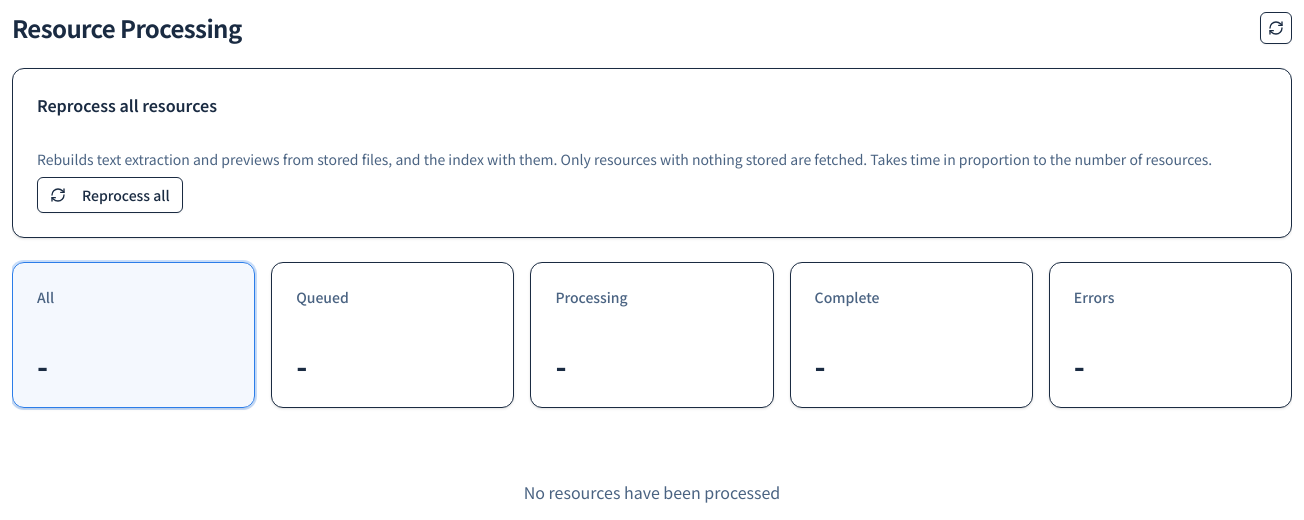
it: AdminJobsPage › reprocesses every resource from the content it holds
The width and height of the screenshot is (1304, 520).
Click the button "Reprocess all" at (110, 195), box 37,177 -> 183,213
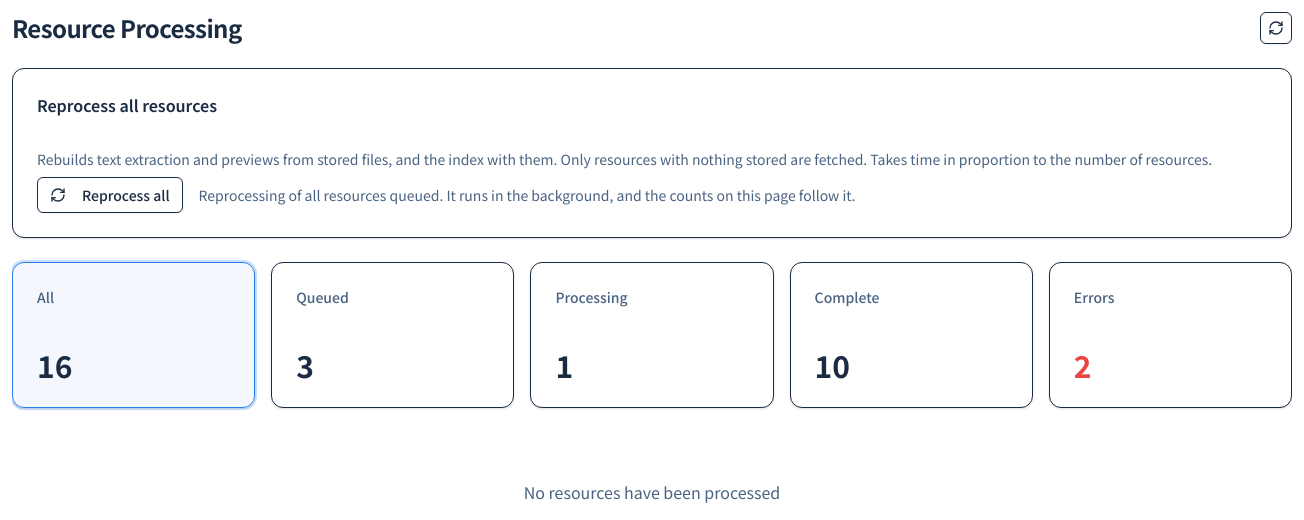
Now the message shows "Reprocessing of all resources queued", box 199,185 -> 856,205
